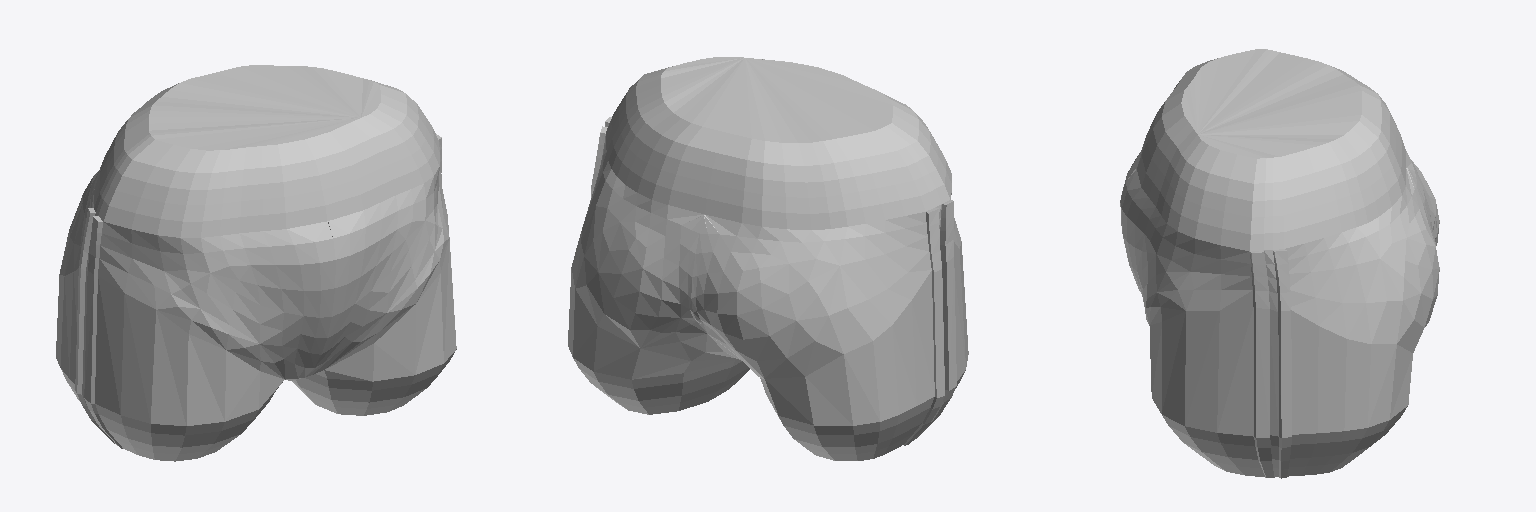
Rendered from 00_waist.obj.
3 renders of one model, left to right at view 1: azimuth 30°, elevation 25°; view 2: azimuth 150°, elevation 25°; view 3: azimuth 270°, elevation 25°, orthographic.
Parts seen in each view (by area): view 1: waist; view 2: waist; view 3: waist.
Part boxes in pixels (left/top/right/bottom): waist: left=56, top=65, right=456, bottom=461; waist: left=568, top=57, right=968, bottom=460; waist: left=1120, top=49, right=1439, bottom=478.
Bounding box in the file's own units: 2.65 × 2.18 × 2.06.